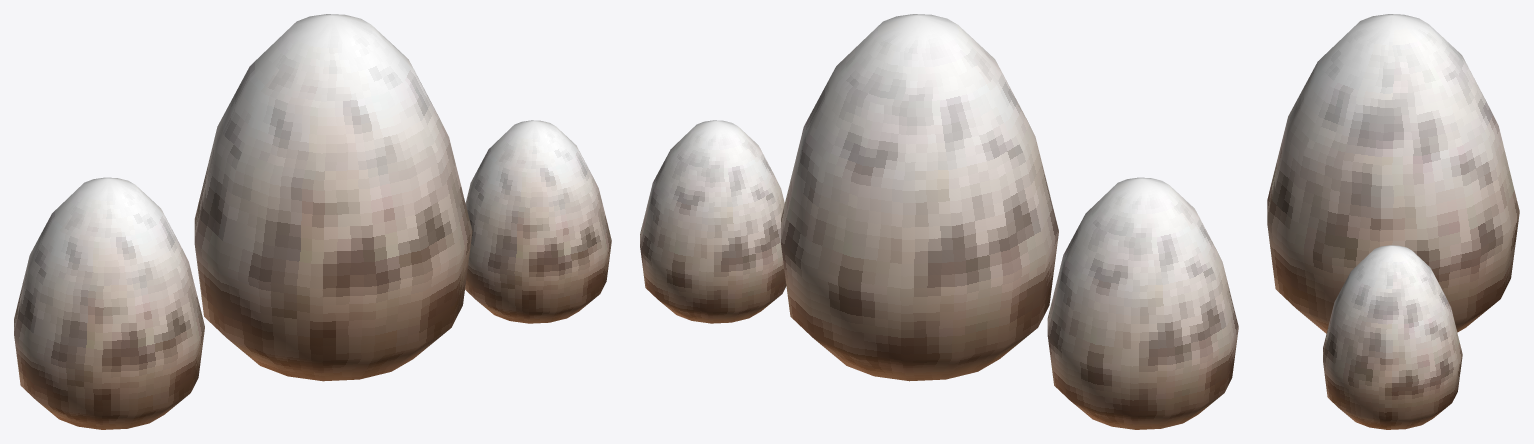
File: Object_Eggs.FBX
3 renders of one model, left to right at view 1: azimuth 30°, elevation 25°; view 2: azimuth 150°, elevation 25°; view 3: azimuth 270°, elevation 25°, orthographic. The views are drawn at different scales.
Parts seen in each view (by area): view 1: egg2, egg3, egg1; view 2: egg2, egg3, egg1; view 3: egg2, egg1.
Part boxes in pixels (x1,y1,x2,y2): egg2: (194, 14, 472, 381); egg3: (14, 177, 204, 429); egg1: (465, 120, 611, 323); egg2: (781, 14, 1058, 381); egg3: (1047, 177, 1238, 429); egg1: (640, 120, 786, 323); egg2: (1267, 14, 1519, 333); egg1: (1323, 245, 1462, 429).
Bounding box in the file's own units: 92.14 × 53.01 × 38.52.
